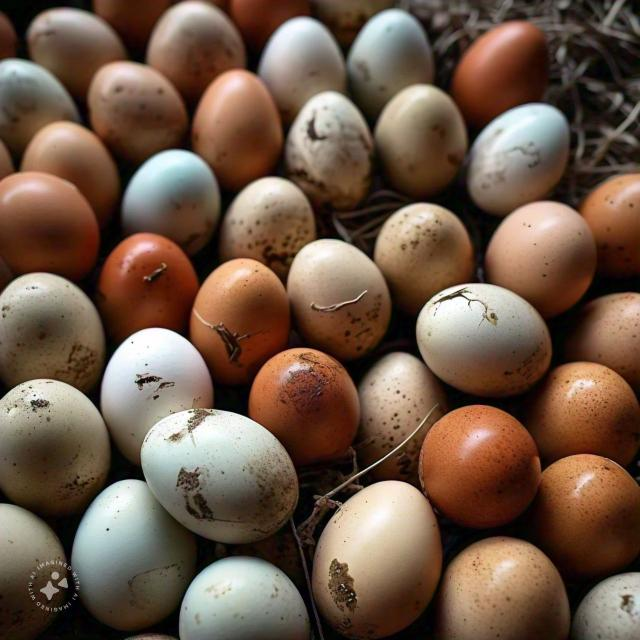Blood Stained Egg: (278, 359, 387, 449), (98, 239, 190, 319)
